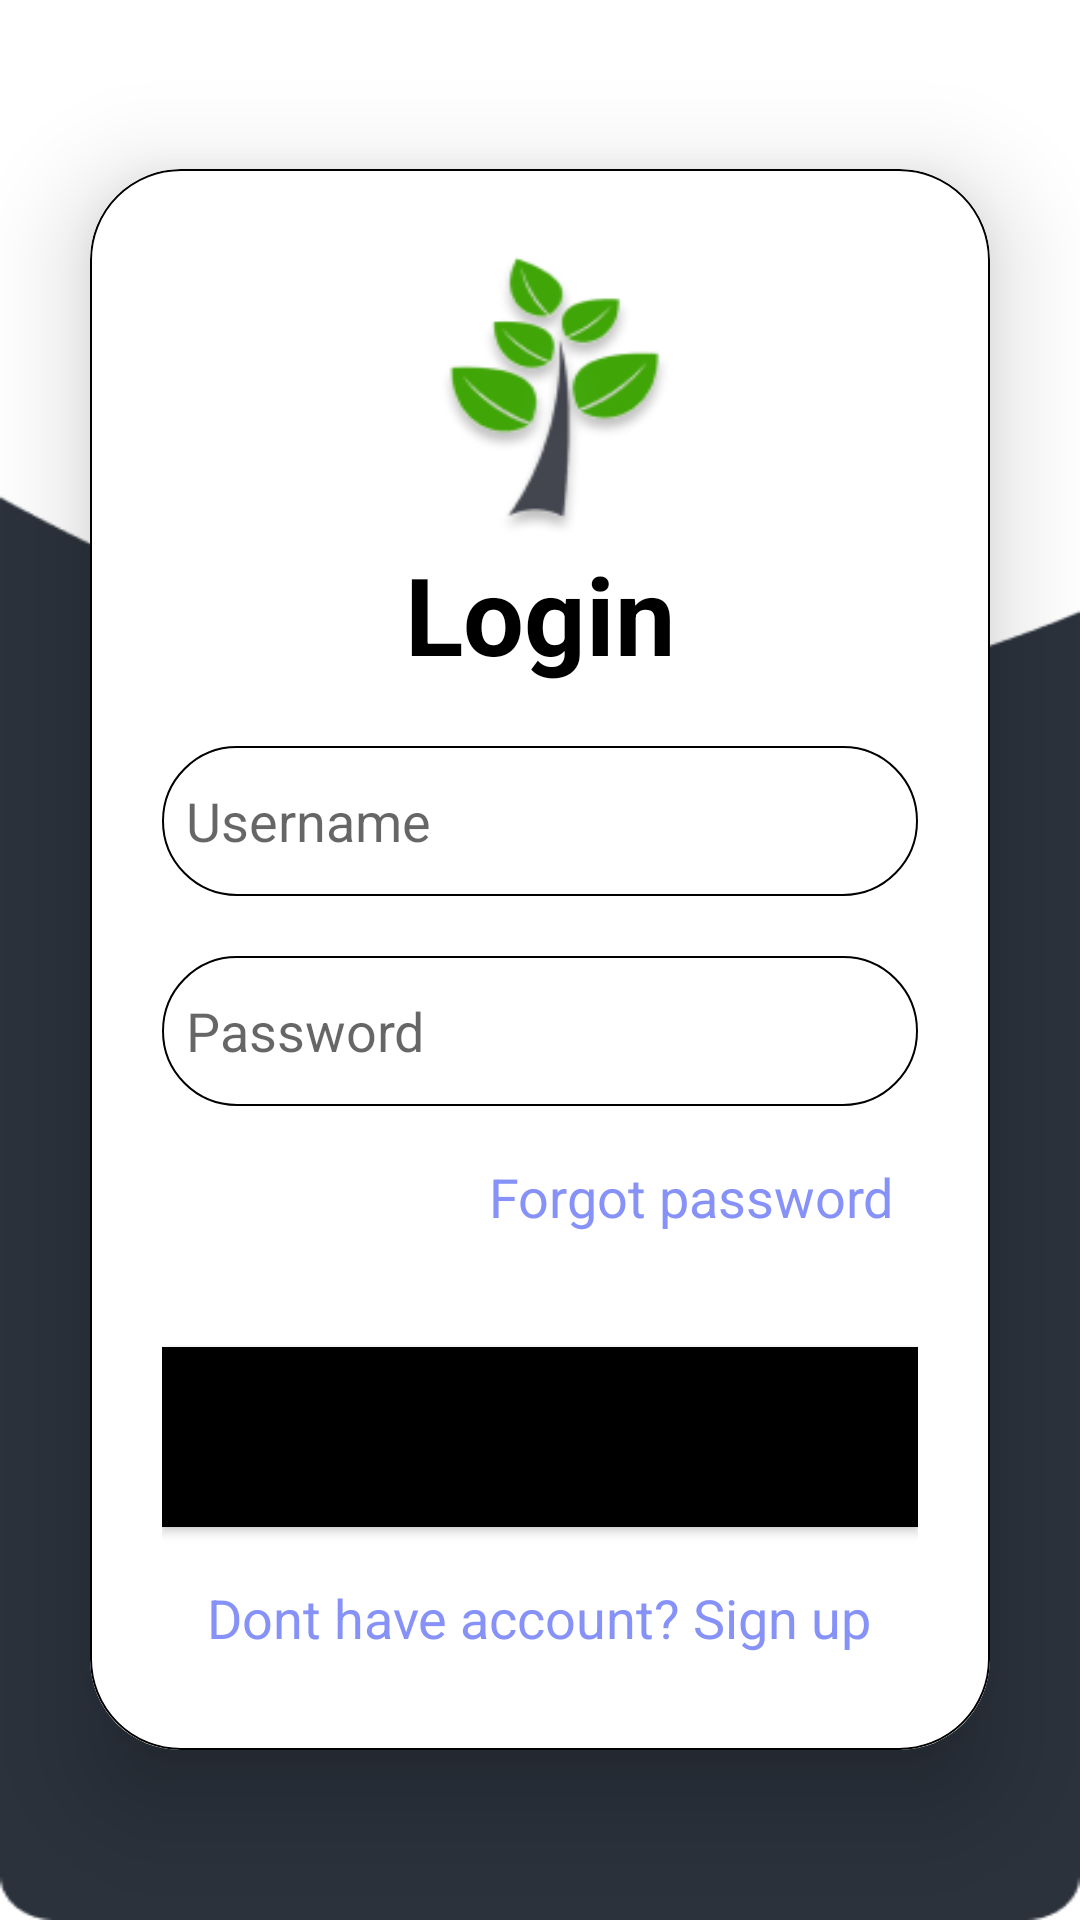

Point at icon controls on the screen. Image size 1080 x 1920, points as (x,y).
tree: (554,391)
